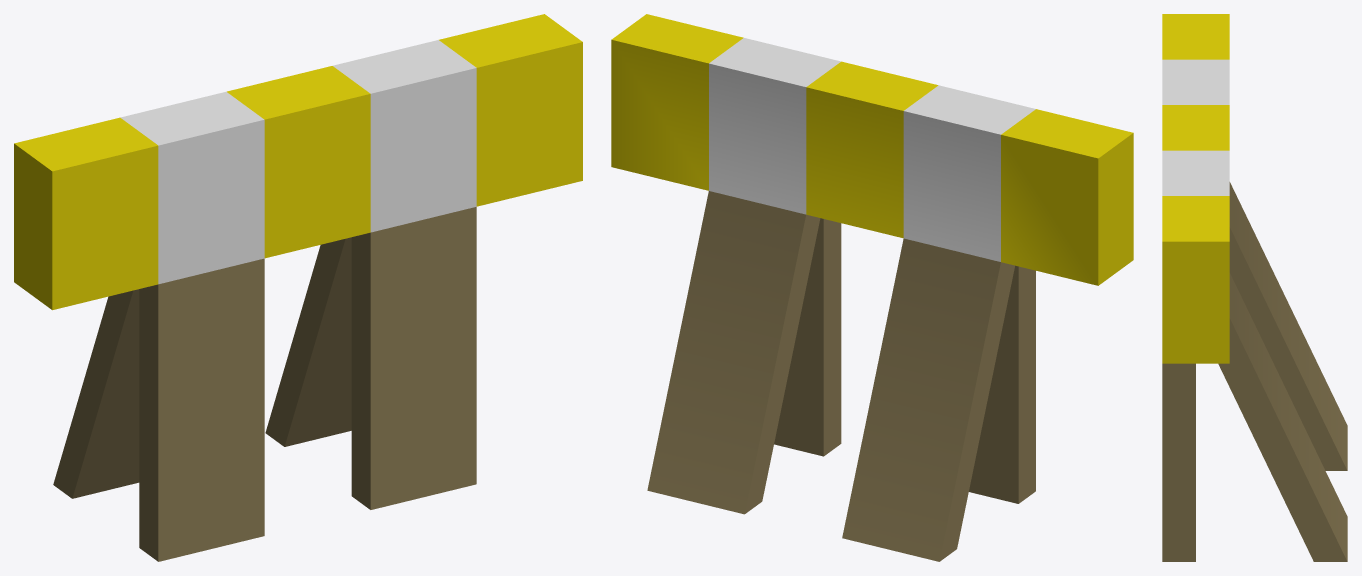
The model's file is roadblock.fbx.
3 views of the same model, side by side, from view 1: azimuth 30°, elevation 25°; view 2: azimuth 150°, elevation 25°; view 3: azimuth 270°, elevation 25° (orthographic). The views are drawn at different scales.
Parts seen in each view (by area): view 1: pCube1; view 2: pCube1; view 3: pCube1.
Part boxes in pixels (x1,y1,x2,y2): pCube1: [14, 14, 582, 561]; pCube1: [611, 14, 1133, 561]; pCube1: [1162, 14, 1347, 561].
Bounding box in the file's own units: 4 × 3 × 1.38.
